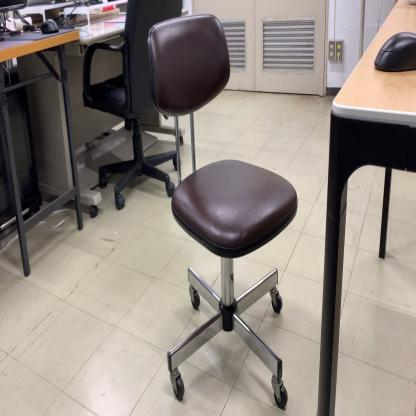chair: (145, 13, 300, 416), (79, 0, 185, 211)
